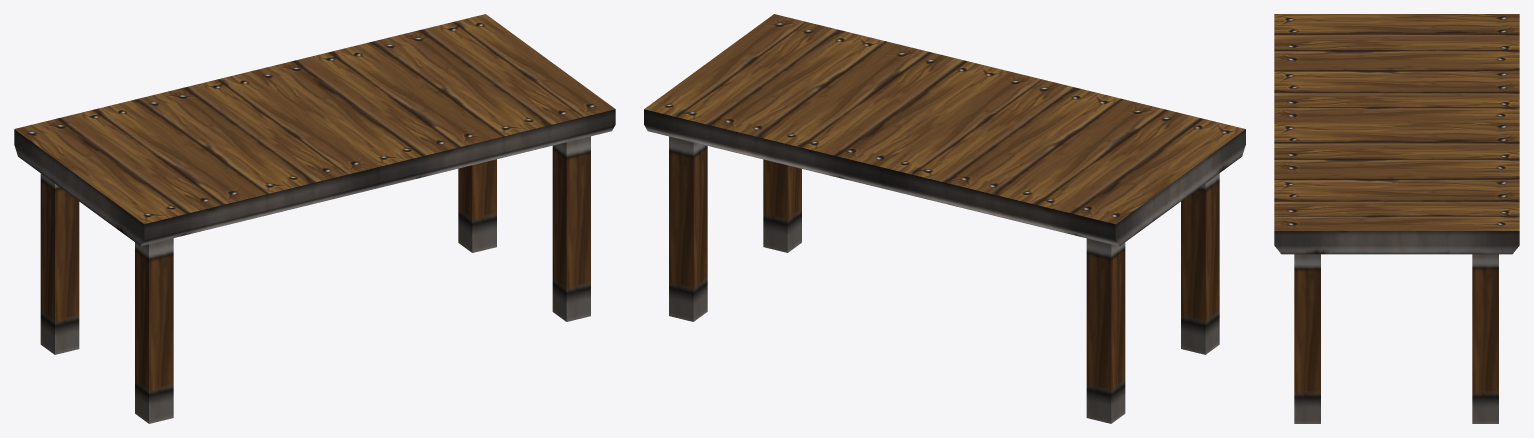
File: Table03.fbx
The picture shows the model from 3 angles, left to right: view 1: azimuth 30°, elevation 25°; view 2: azimuth 150°, elevation 25°; view 3: azimuth 270°, elevation 25°; orthographic projection. The views are drawn at different scales.
Visible parts, largest first — view 1: Table03; view 2: Table03; view 3: Table03.
Part boxes in pixels (bbox=[...]): Table03: bbox=[14, 14, 615, 423]; Table03: bbox=[644, 14, 1245, 423]; Table03: bbox=[1274, 14, 1519, 423].
Size of the model in its own units: 5.72 by 2.45 by 2.73.
